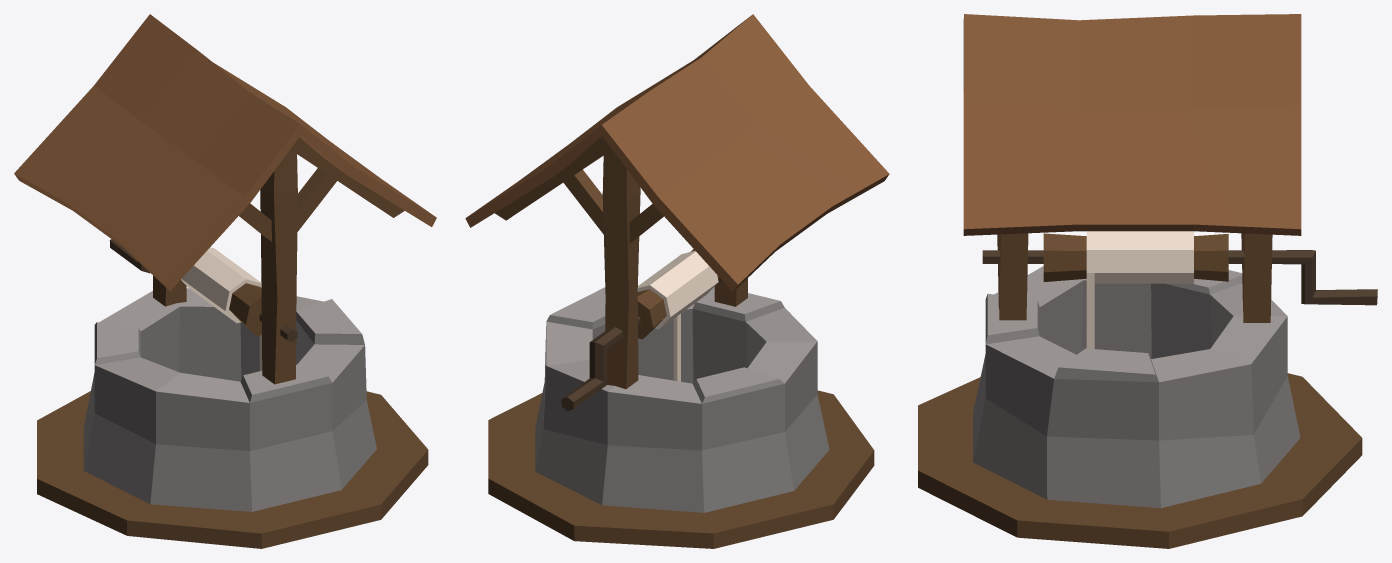
Rendered from well.glb.
3 renders of one model, left to right at view 1: azimuth 30°, elevation 25°; view 2: azimuth 150°, elevation 25°; view 3: azimuth 270°, elevation 25°, orthographic. The views are drawn at different scales.
Parts seen in each view (by area): view 1: well; view 2: well; view 3: well.
Boxes of the visible parts, box(x1,y1,x2,y2) form: well: box(14, 14, 436, 548); well: box(465, 14, 889, 548); well: box(918, 14, 1377, 548).
Bounding box in the file's own units: 1.97 × 2.16 × 2.04.
1 material, 1 textured.
